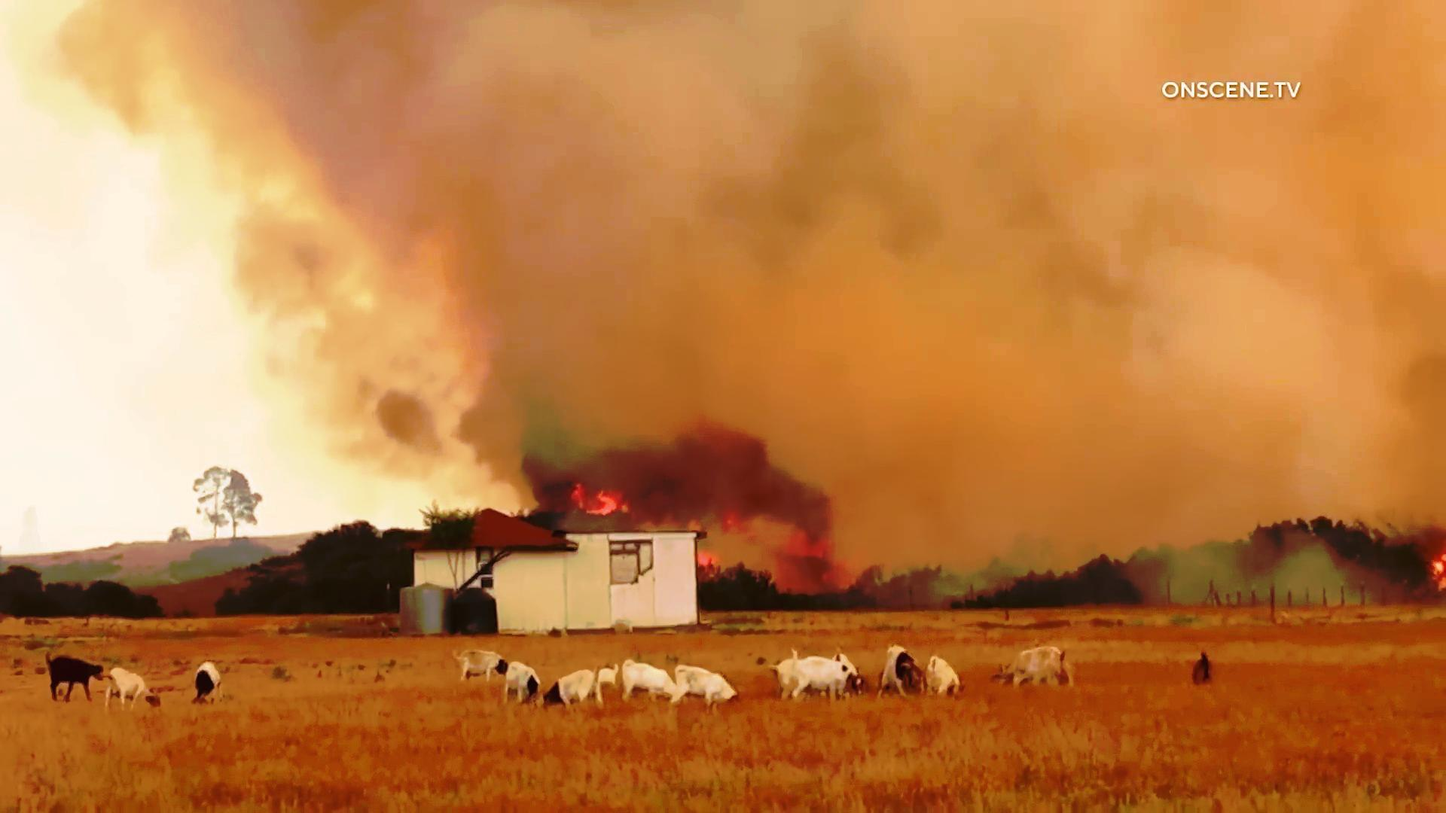smoke: (709, 93, 1389, 432)
